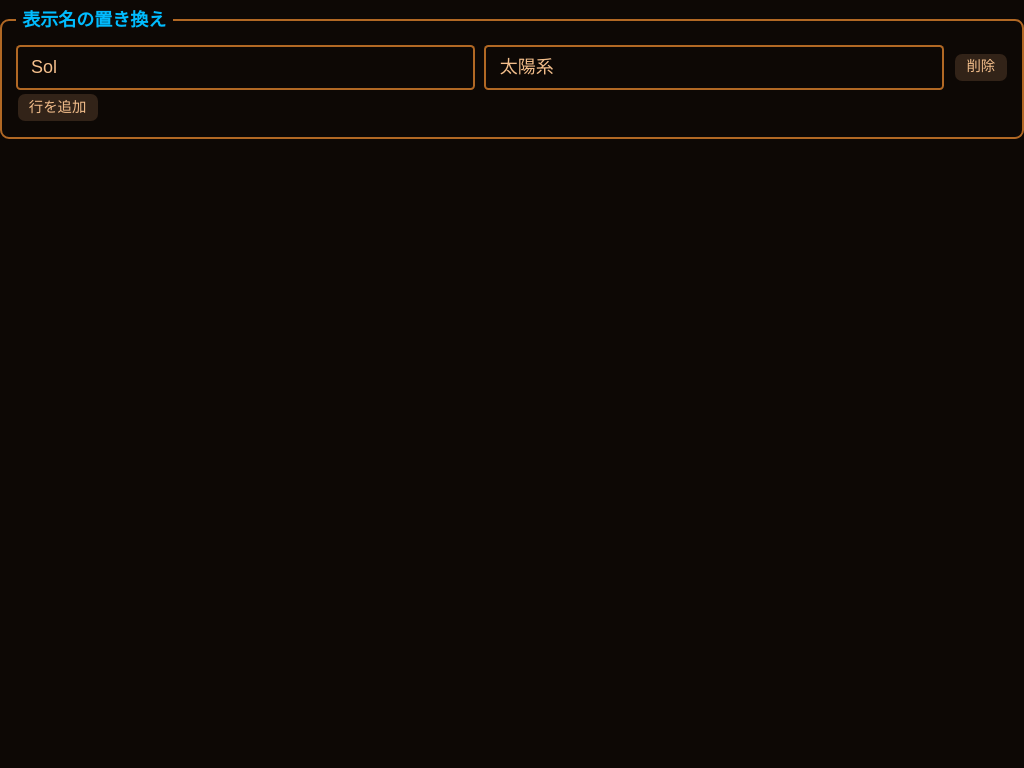
Test: duplicate keys are reported instead of silently keeping the last one
The width and height of the screenshot is (1024, 768).
Click the button "行を追加". click: (58, 108)
box: x1=16 y1=92 x2=100 y2=123
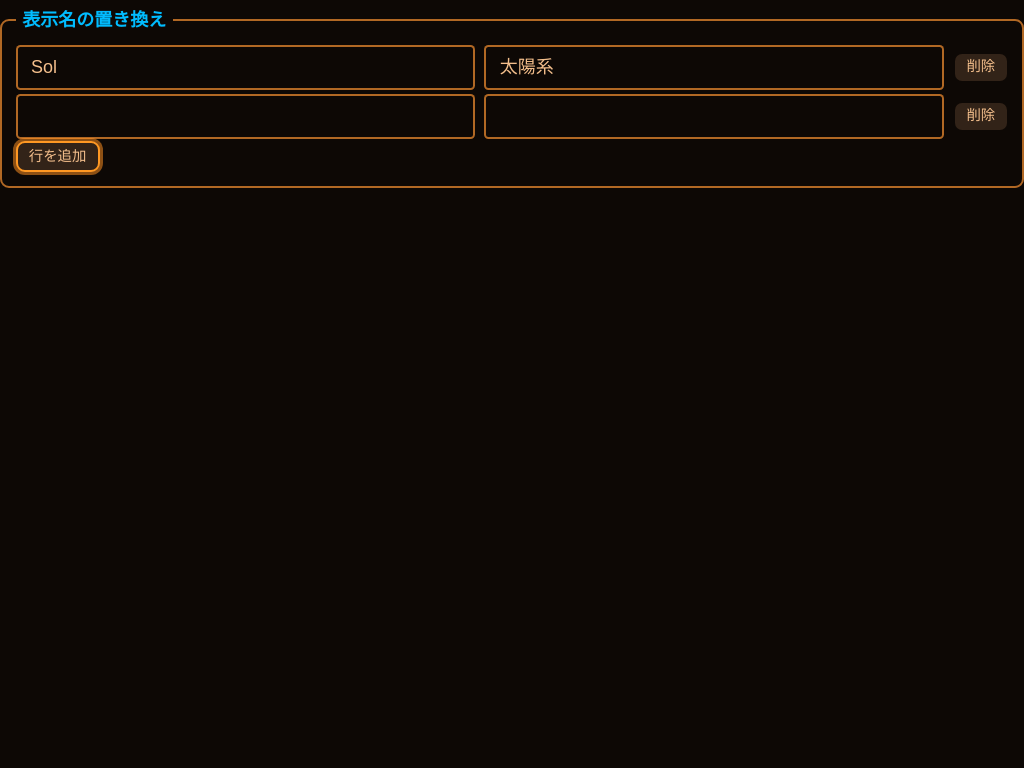
Type "Sol" into the 2nd field named "表示名の置き換え のキー". click: (245, 116)
box: x1=16 y1=94 x2=475 y2=138
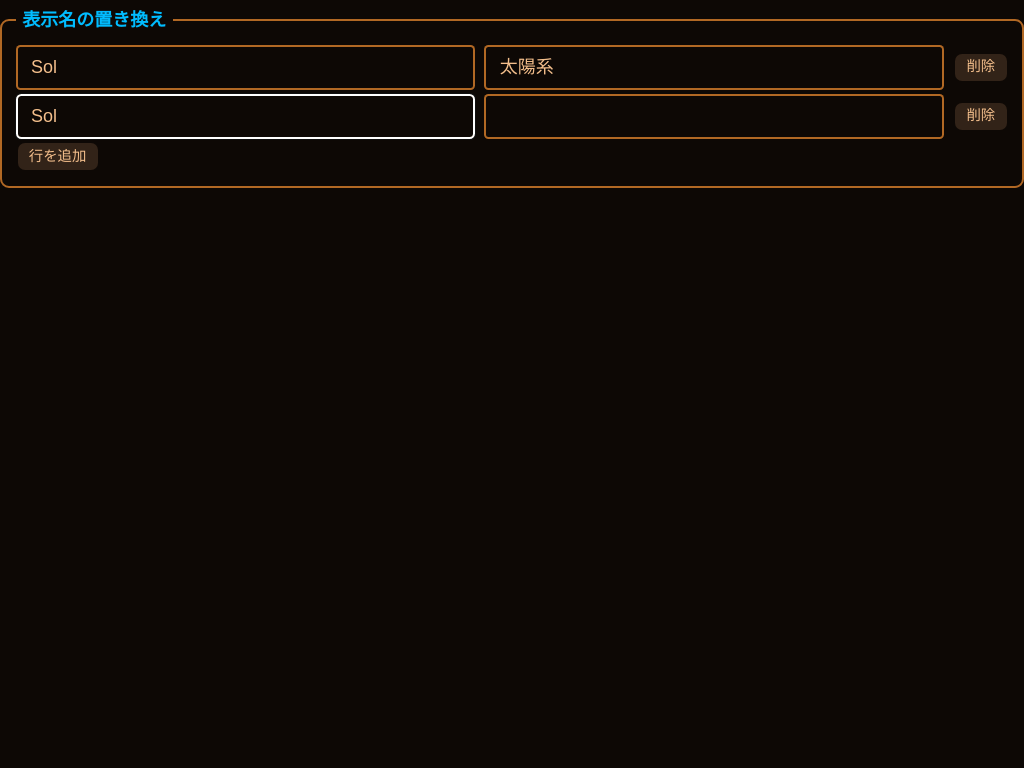
Type "別の名前" into the 2nd field named "表示名の置き換え の値". click: (714, 116)
box: x1=484 y1=94 x2=944 y2=138
(page scrolled)
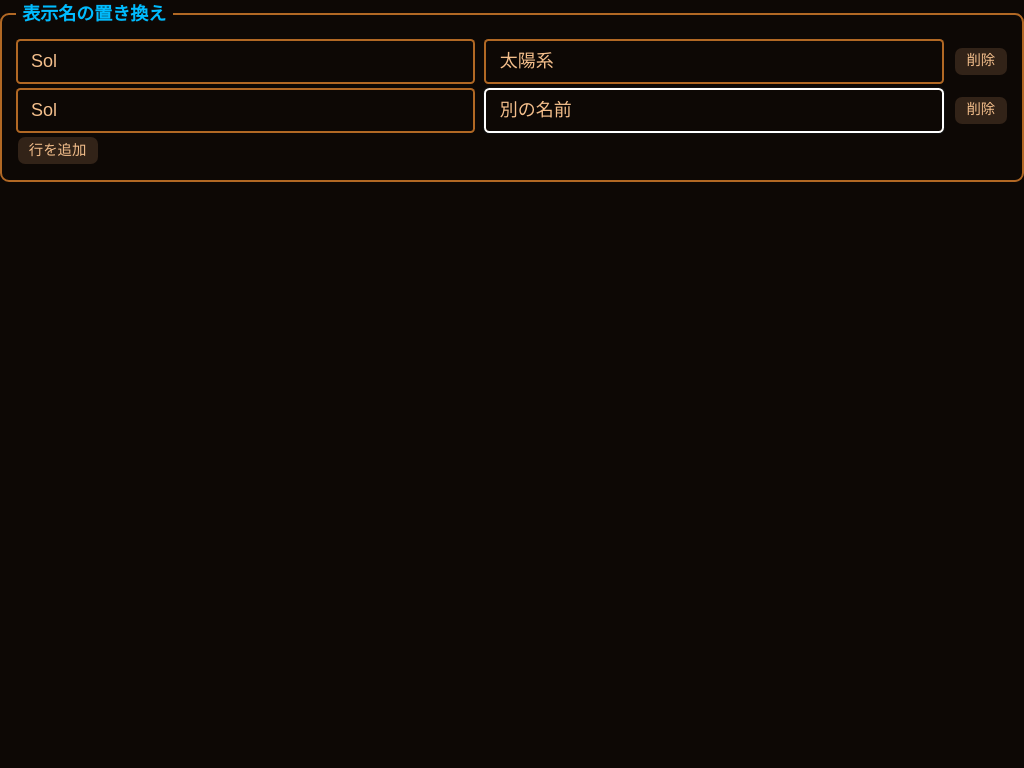
Click the element showing "表示名の置き換え 削除 削除 行を追加". click: (512, 385)
box: x1=0 y1=1 x2=1023 y2=767
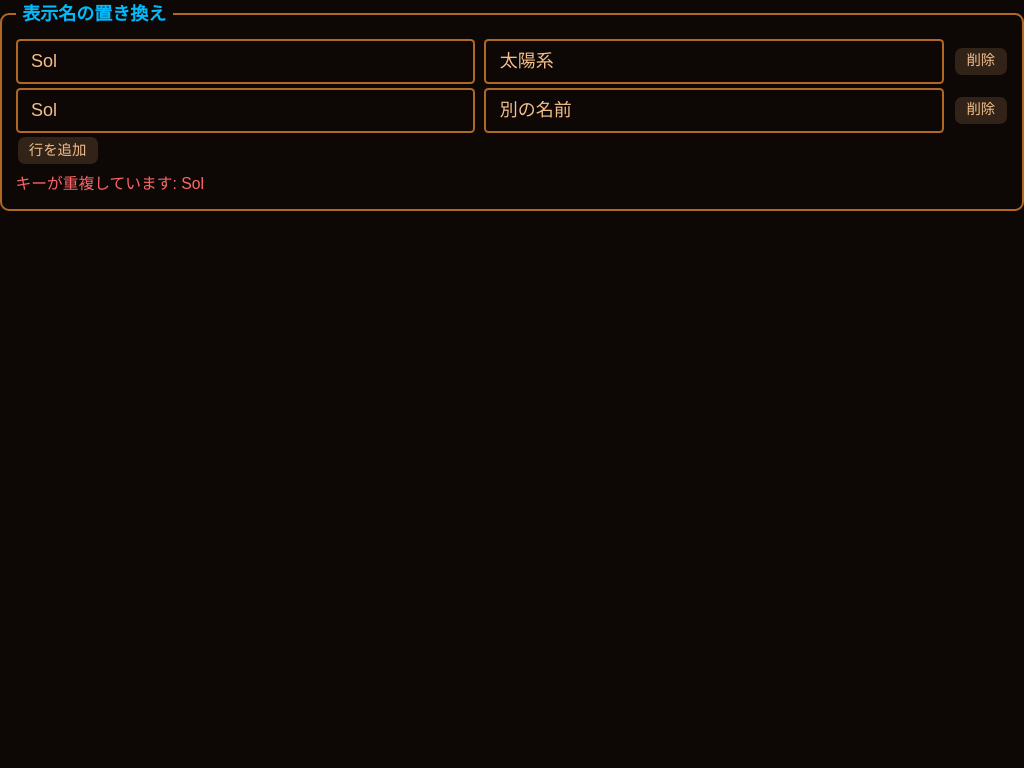
Expected: the text "キーが重複しています: Sol" is shown, x1=16 y1=175 x2=204 y2=192
